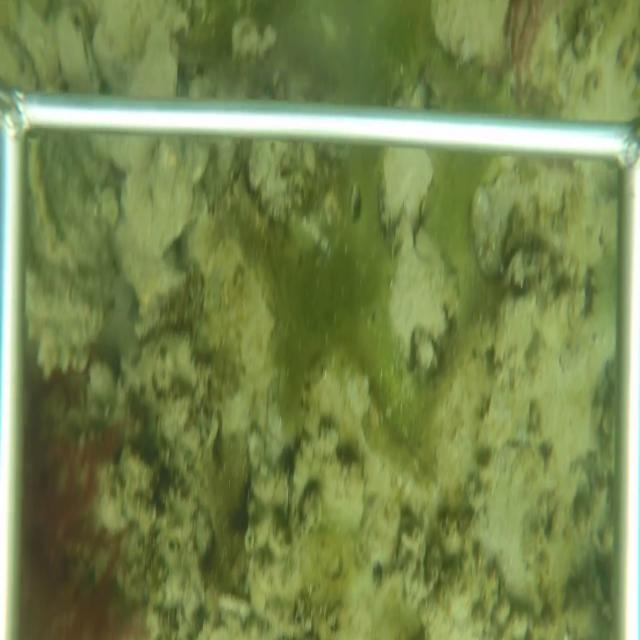Oyster-Closed: (54, 2, 102, 92)
